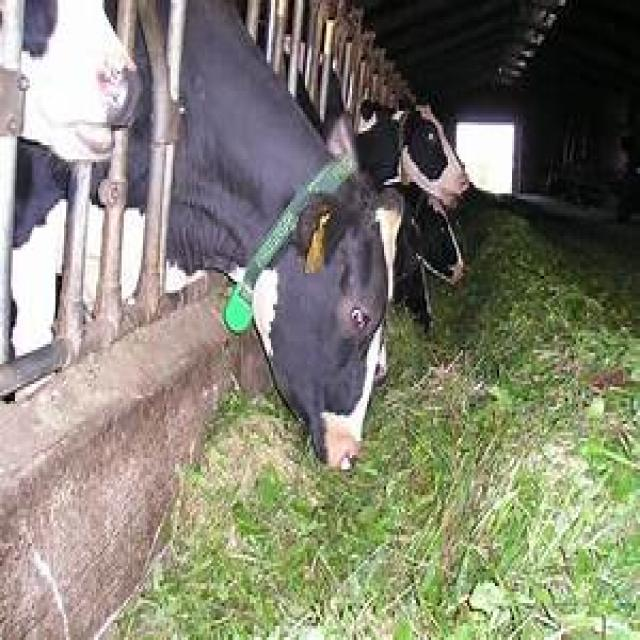cow: (166, 0, 397, 469)
